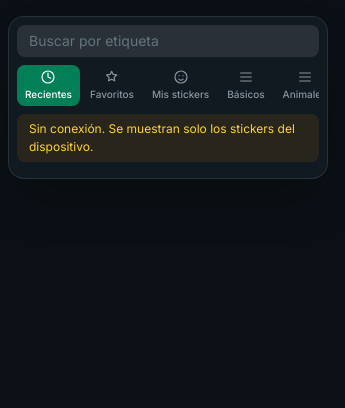
StickerPanel v2 › shows an offline hint on server tabs when the library fetch fails and keeps packs usable
The image size is (345, 408).
Expected: the message "Sin conexión. Se muestran solo los stickers del dispositivo." is shown, x1=17 y1=114 x2=319 y2=162
Step 1. Click the tab "Básicos" → {"x": 246, "y": 86}, box x1=219 y1=65 x2=273 y2=106
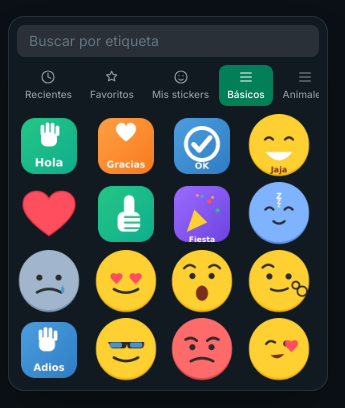
Now the message "Sin conexión. Se muestran solo los stickers del dispositivo." is gone
